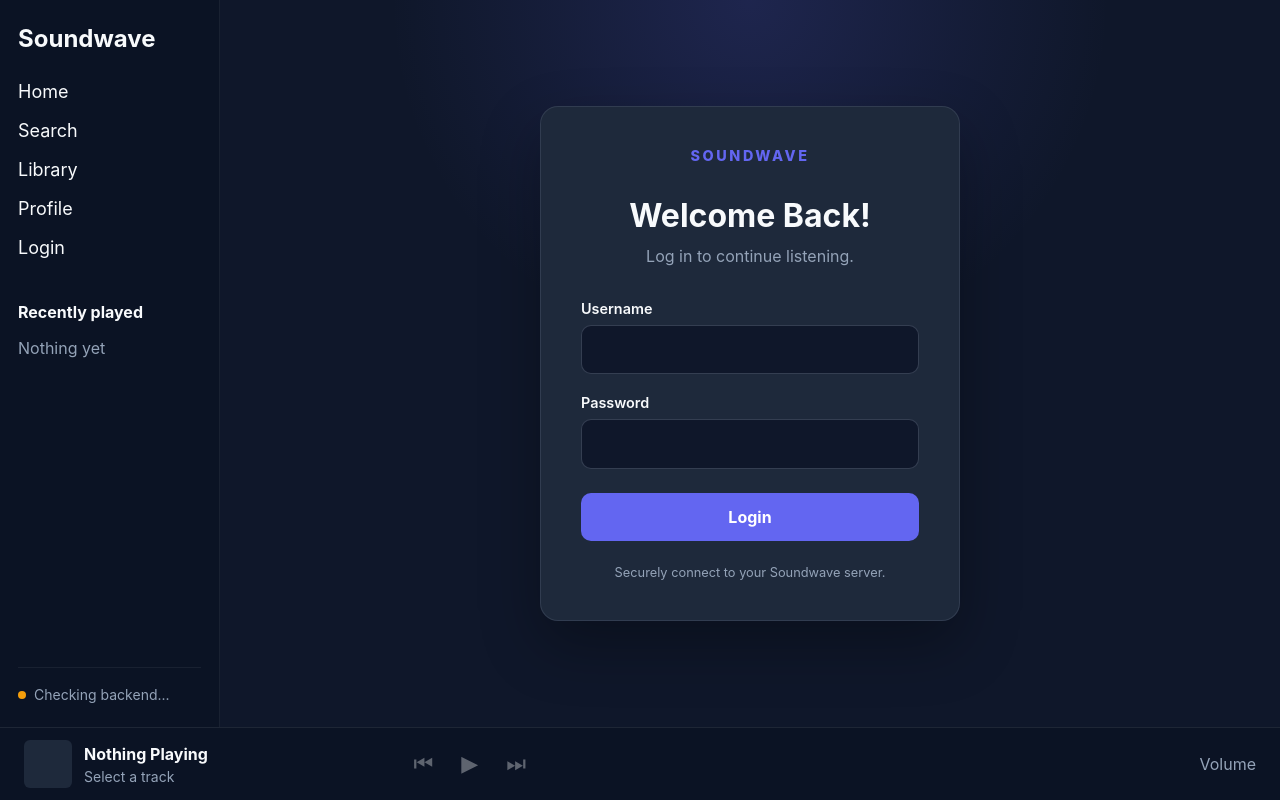
Scenario: SCRUM-238 Discovery guest session integration › allows a signed-out visitor to open Discovery
The image size is (1280, 800).
Click the link "Search".
click(48, 130)  # box [18,120,78,141]
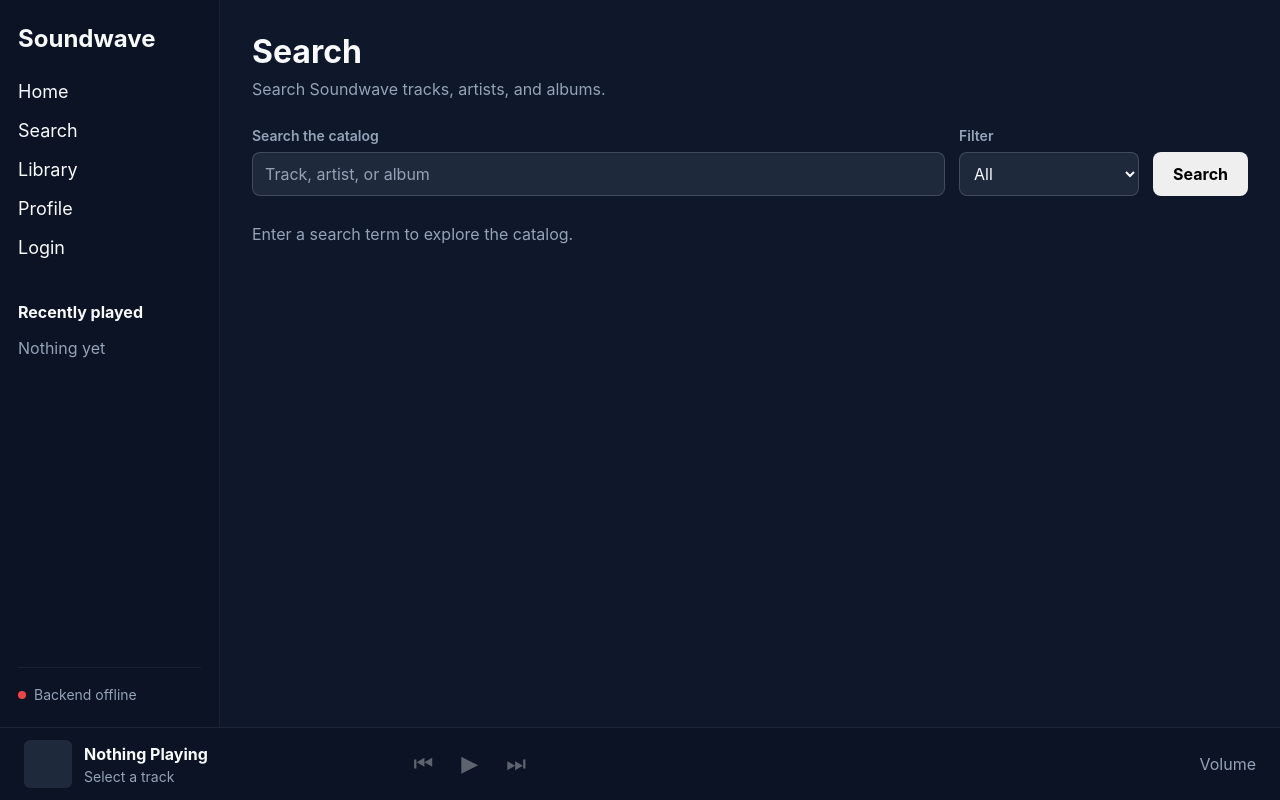
expect the search field labelled "Search the catalog" is shown: met, box [252,152,945,196]
expect the button "Search" is shown: met, box [1153,152,1248,196]
